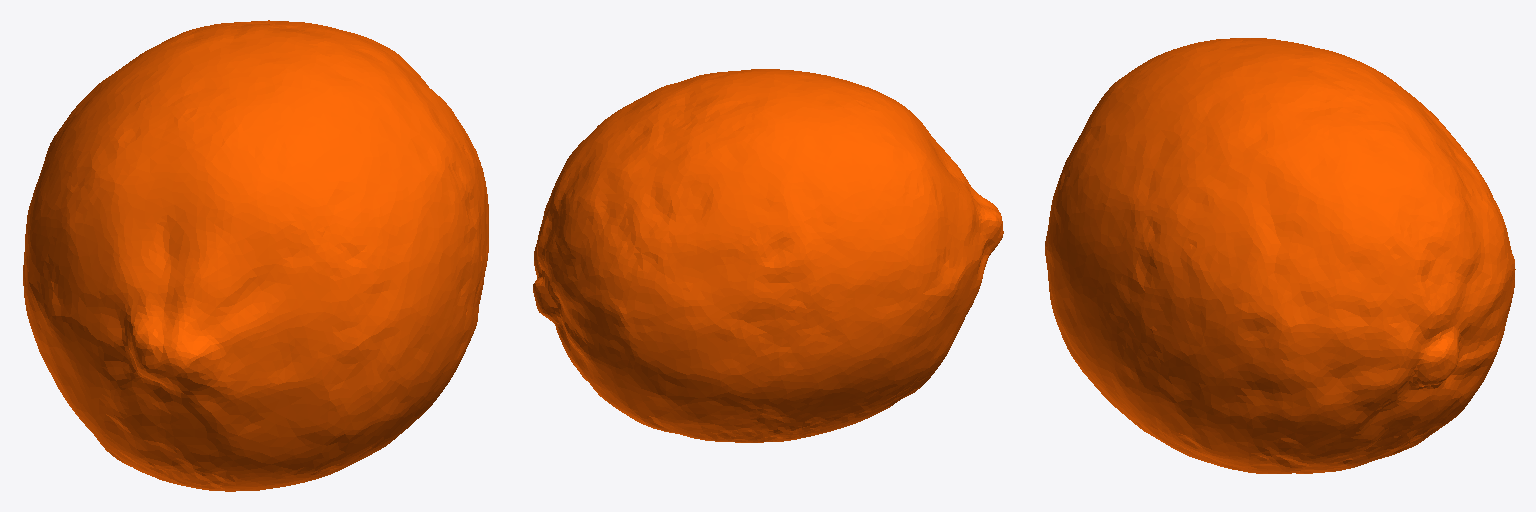
URDF robot description (014_lemon):
<?xml version="1.0" ?>
<robot name="014_lemon">
   <material name="obj_color">
      <color rgba="1.0 0.423529411765 0.0392156862745 1.0"/>
   </material>
   <link name="top">
      <inertial>
         <origin rpy="5.460117607228066e-05 6.651687017400486e-05 6.685281259330553e-05" xyz="-0.0005108531121446192 -0.0004863625545966355 -0.001168766422640807"/>
         <mass value="0.1897956494250753"/>
         <inertia ixx="5.966611943587124e-05" ixy="-5.988457325417932e-06" ixz="2.13861476857507e-07" iyy="6.168595645689024e-05" iyz="-2.245288589817113e-08" izz="6.661878294682958e-05"/>
      </inertial>
      <visual>
         <origin rpy="0 0 0" xyz="0 0 0"/>
         <geometry>
            <mesh filename="top_watertight_tiny.stl" scale="1 1 1"/>
         </geometry>
         <material name="obj_color"/>
      </visual>
      <collision>
         <origin rpy="0 0 0" xyz="0 0 0"/>
         <geometry>
            <mesh filename="top_watertight_tiny.obj" scale="1 1 1"/>
         </geometry>
      </collision>
   </link>
   <link name="bottom">
      <inertial>
         <origin rpy="1.633333333199431e-08 1.633333333199431e-08 1.633333333362855e-08" xyz="0.3464080000000008 0.3464080000000008 0.3464080000000008"/>
         <mass value="0.0009800000000000017"/>
         <inertia ixx="1.633333333253906e-08" ixy="5.447480642029219e-19" ixz="5.447480642029219e-19" iyy="1.633333333253906e-08" iyz="5.447480642029219e-19" izz="1.633333333253906e-08"/>
      </inertial>
      <visual>
         <origin rpy="0 0 0" xyz="0 0 0"/>
         <geometry>
            <mesh filename="bottom_watertight_tiny.stl" scale="1 1 1"/>
         </geometry>
         <material name="obj_color"/>
      </visual>
   </link>
   <joint name="rotation" type="revolute">
      <origin xyz="0 0 0"/>
      <axis xyz="0 0 -1"/>
      <parent link="bottom"/>
      <child link="top"/>
      <dynamics damping="1.0" friction="1.0"/>
      <limit effort="0.1" velocity="0.1" lower="0" upper="0.001"/>
   </joint>
</robot>

--- What the picture shows (computed from the rendered views, not written in the file) ---
The picture shows the robot from 3 angles, left to right: view 1: azimuth 30°, elevation 25°; view 2: azimuth 150°, elevation 25°; view 3: azimuth 270°, elevation 25°; orthographic projection.
Robot: 014_lemon — 2 links, 1 joints (1 revolute); root link bottom; default pose: all joints at 0.
Links seen in each view (by area): view 1: top; view 2: top; view 3: top.
Boxes of the visible links, <box> form: top: <box>23,20,488,491</box>; top: <box>533,69,1003,442</box>; top: <box>1045,38,1515,473</box>.
Size in the robot's own frame: 0.0606 by 0.0593 by 0.053 metres.
1 mesh visuals loaded from 2 distinct referenced files (1 binary STL); not drawn: 1 (reference not matched to a file when rendering).
